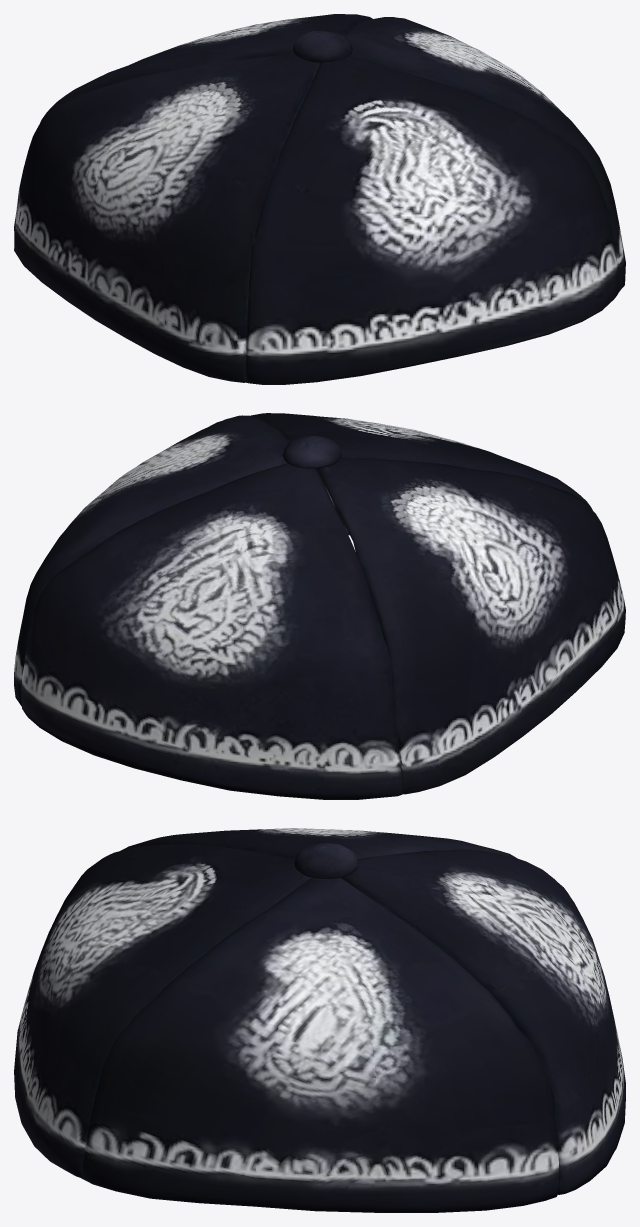
Rendered from doppi.8f8f04cc.glb.
3 renders of one model, top to bottom at view 1: azimuth 30°, elevation 25°; view 2: azimuth 150°, elevation 25°; view 3: azimuth 270°, elevation 25°, orthographic. The views are drawn at different scales.
Parts seen in each view (by area): view 1: tripo_node_1e6bfa9a-c1e7-49c7-92e7-ff70402208d8; view 2: tripo_node_1e6bfa9a-c1e7-49c7-92e7-ff70402208d8; view 3: tripo_node_1e6bfa9a-c1e7-49c7-92e7-ff70402208d8.
Part boxes in pixels (x1,y1,x2,y2): tripo_node_1e6bfa9a-c1e7-49c7-92e7-ff70402208d8: (14,14,625,384); tripo_node_1e6bfa9a-c1e7-49c7-92e7-ff70402208d8: (14,413,625,799); tripo_node_1e6bfa9a-c1e7-49c7-92e7-ff70402208d8: (14,828,625,1212).
Bounding box in the file's own units: 0.9433 × 0.4641 × 0.998.
Materials: 1 (1 with a texture image).
